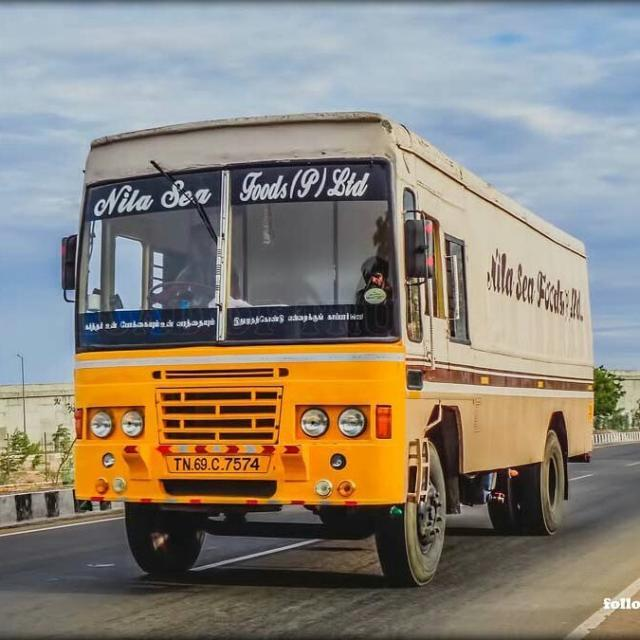Truck: (59, 108, 602, 588)
